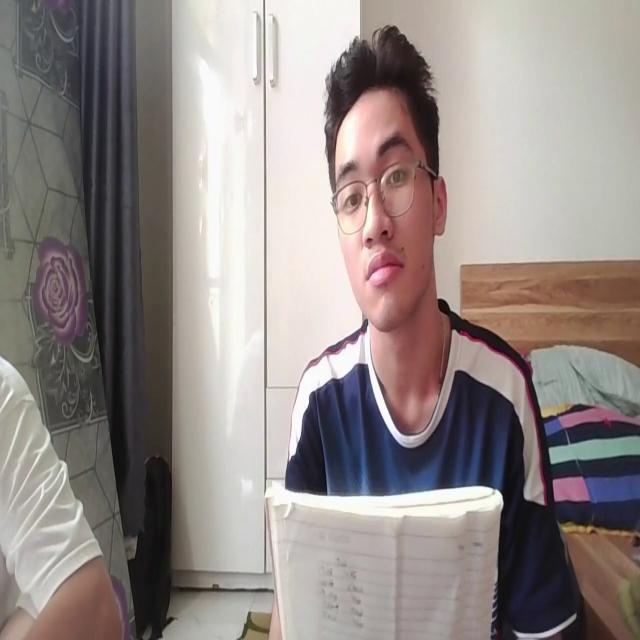book: (264, 479, 504, 640)
student: (260, 15, 572, 640)
